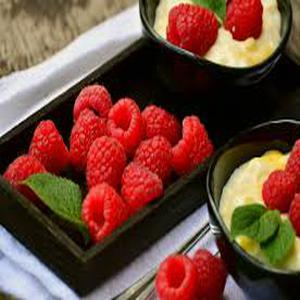raspb: (65, 92, 176, 201)
